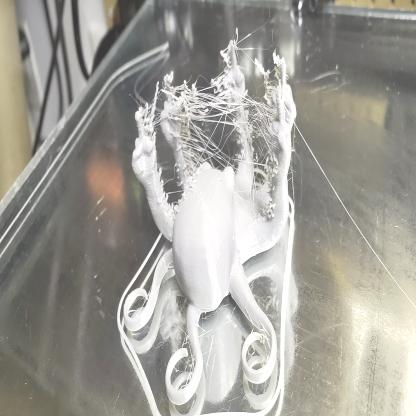fail: (175, 85, 237, 164), (250, 89, 276, 179), (142, 103, 167, 137)
